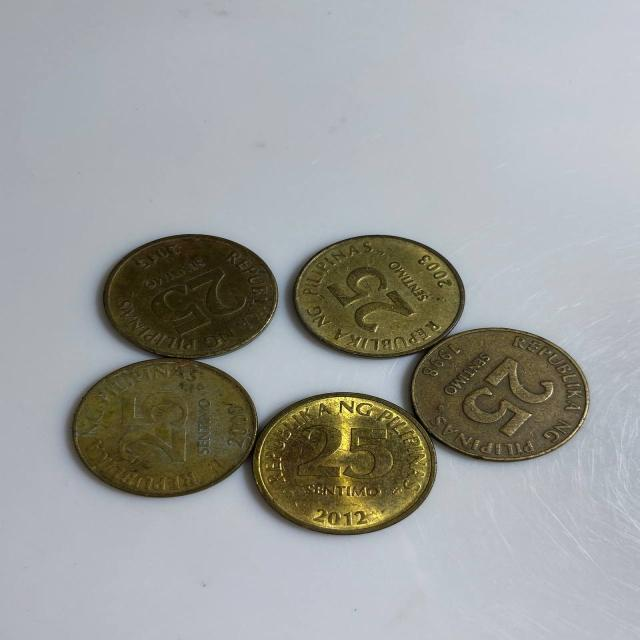25Cent_Old_Front: (461, 351, 544, 439), (297, 422, 396, 489), (329, 263, 412, 336), (151, 268, 241, 331), (111, 395, 192, 465)
